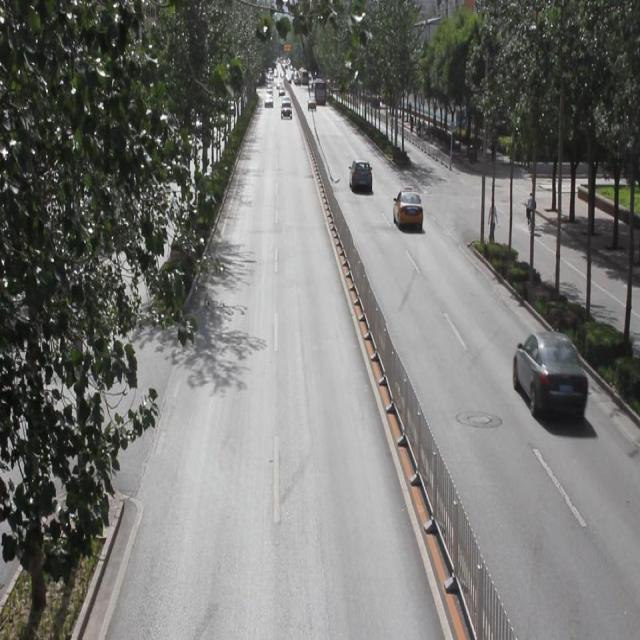car: (512, 329, 587, 420), (392, 189, 424, 233), (348, 159, 373, 195)
